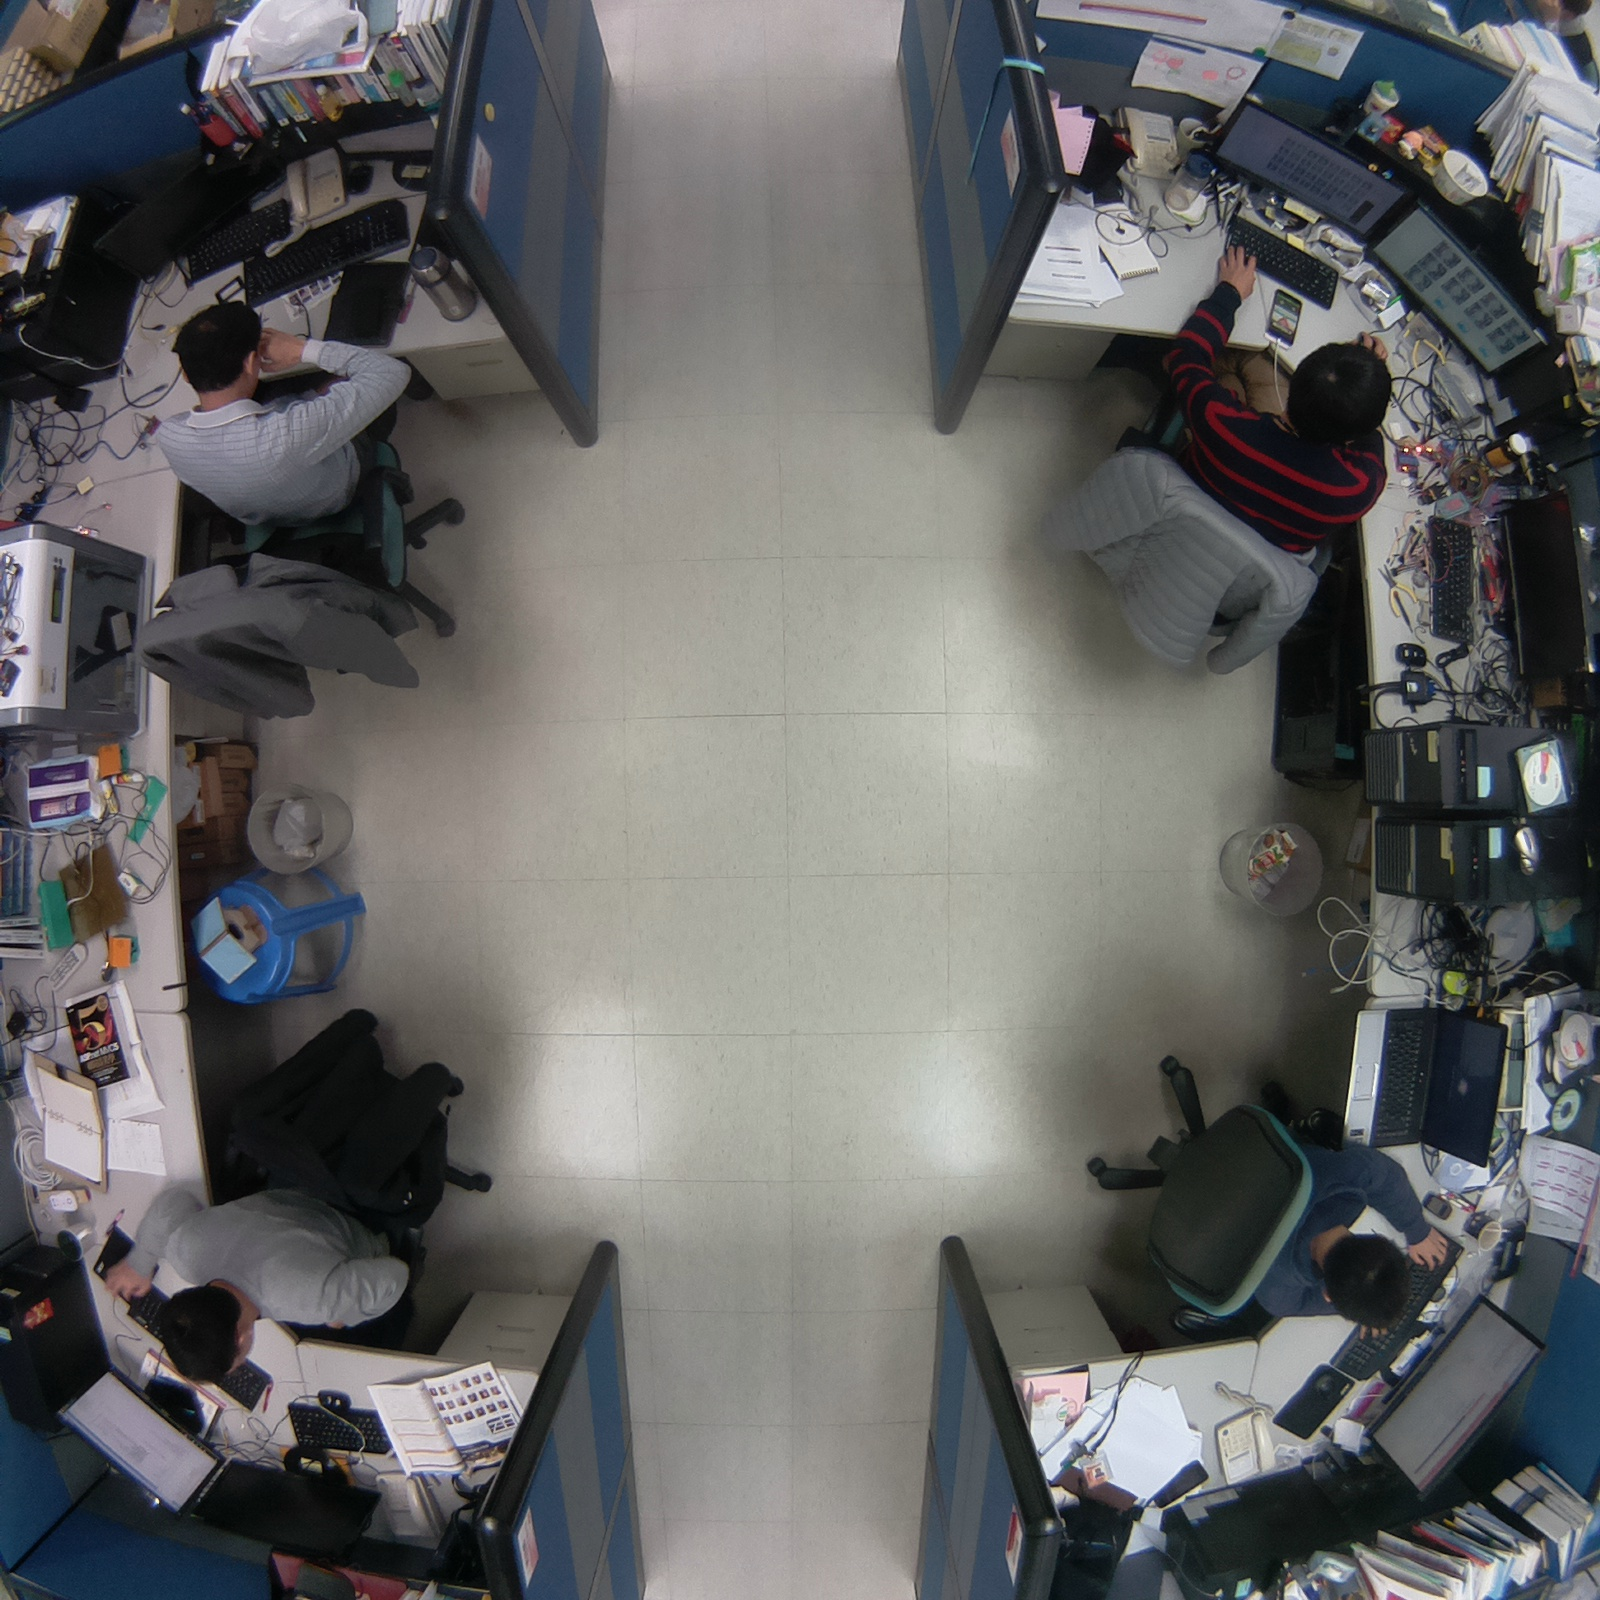head: (1280, 336, 1400, 446), (1306, 1223, 1419, 1336), (151, 1282, 257, 1382), (170, 302, 266, 404)
sitting: (1019, 287, 1398, 709), (116, 986, 509, 1389), (132, 301, 488, 727), (1060, 1042, 1450, 1347)
